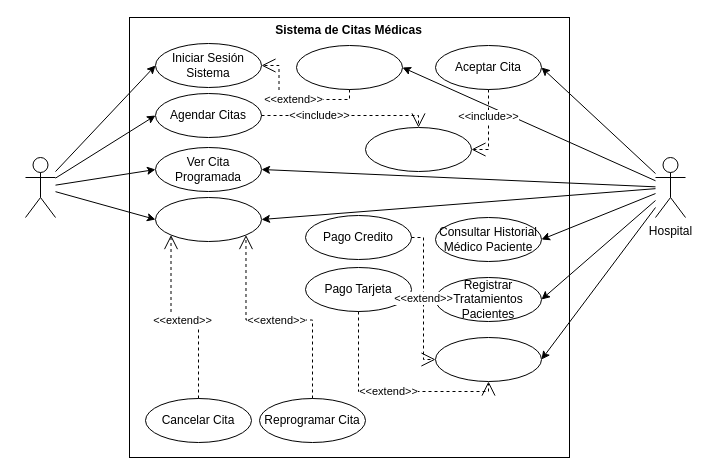
The diagram is 709 pixels wide and 475 high, and some of its shapes have lost their labels. The shapes that lost their labels are listed below. From the top down, each one's box as (x1, y1, x2, y2) in pixels, then its label:
(296, 44, 402, 90): Recuperar Clave
(364, 126, 472, 172): Consultar Disponibilidad Citas
(24, 156, 56, 218): Paciente
(154, 196, 262, 242): Modificar Cita
(434, 336, 542, 382): Cobrar Tratamientos
